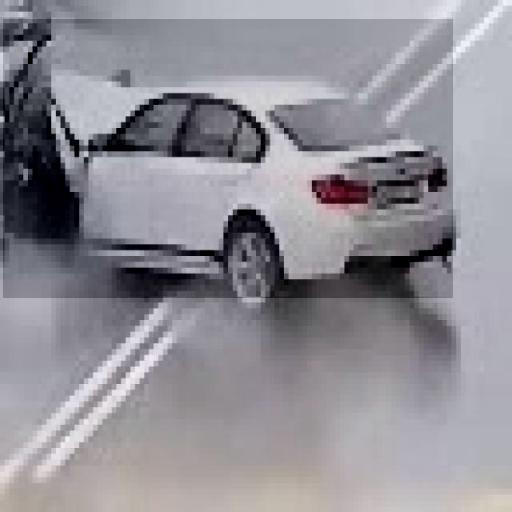小汽车撞小汽车: (3, 19, 453, 298)
